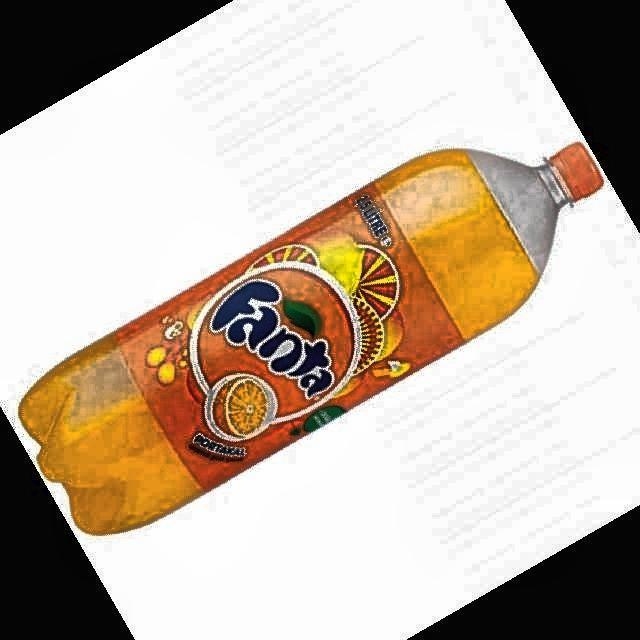plastic: (19, 142, 602, 533)
